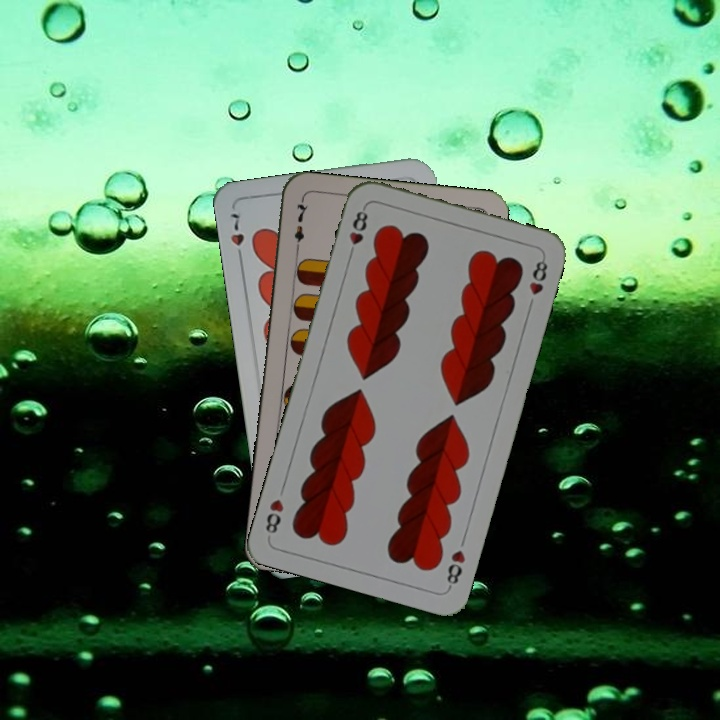E7: (290, 196, 310, 255)
H7: (226, 208, 247, 265)
H8: (344, 203, 371, 261), (442, 546, 468, 591)
